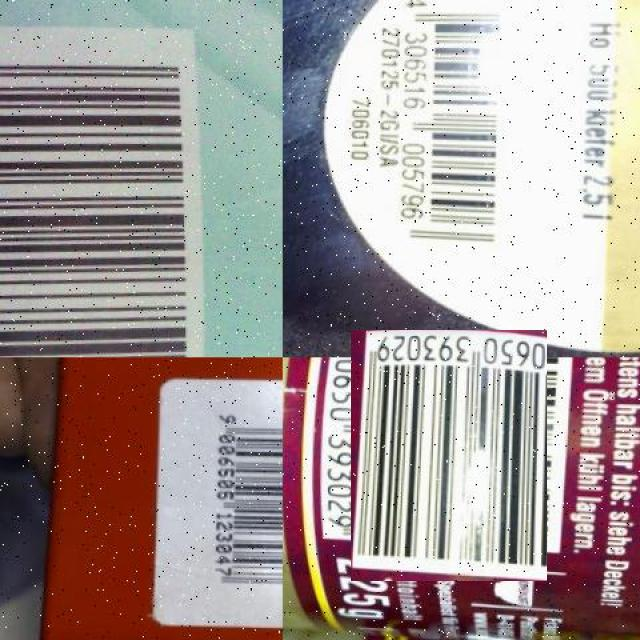Barcode: (0, 18, 222, 357), (337, 343, 560, 568), (396, 0, 526, 261), (157, 376, 283, 629)
